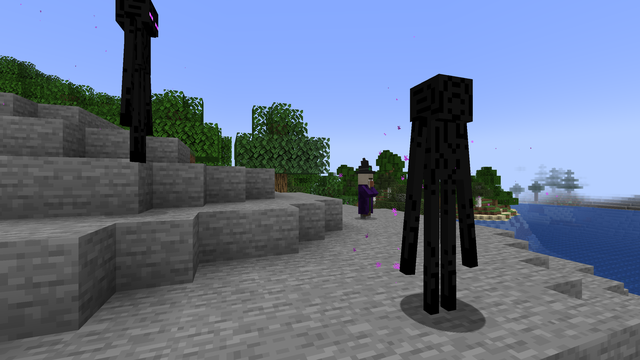endermens: (404, 63, 479, 327), (111, 0, 161, 160)
sorcieres: (355, 171, 374, 219)
